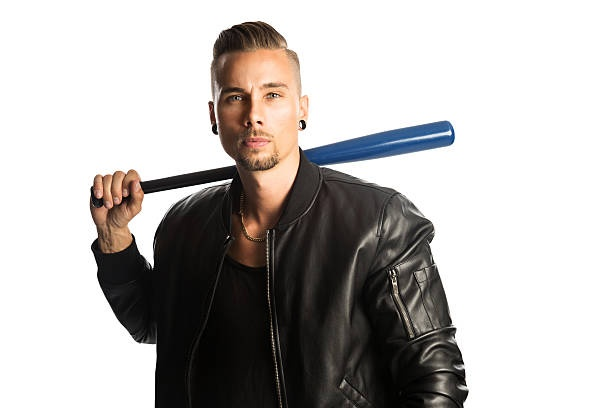bita: (85, 162, 235, 206), (307, 125, 456, 167)
